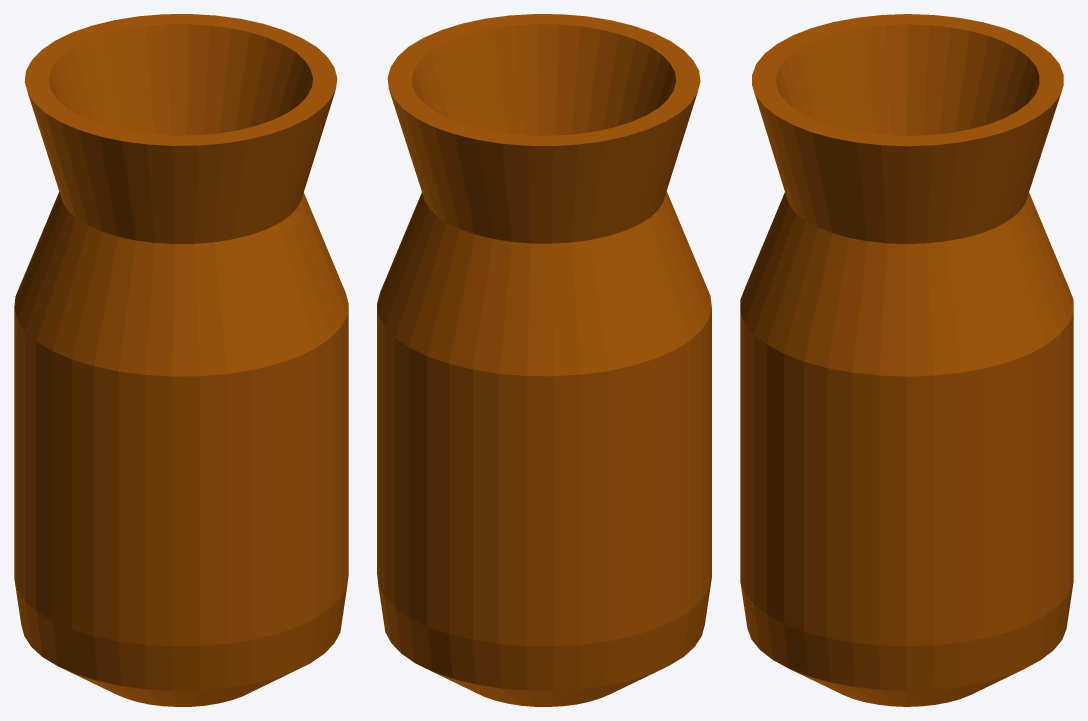
File: Vase.fbx
3 renders of one model, left to right at view 1: azimuth 30°, elevation 25°; view 2: azimuth 150°, elevation 25°; view 3: azimuth 270°, elevation 25°, orthographic.
Parts seen in each view (by area): view 1: Vase; view 2: Vase; view 3: Vase.
Part boxes in pixels (bbox=[...]): Vase: bbox=[14, 14, 348, 706]; Vase: bbox=[377, 14, 711, 706]; Vase: bbox=[740, 14, 1073, 706].
Bounding box in the file's own units: 36.3 × 36.1 × 70.52.
